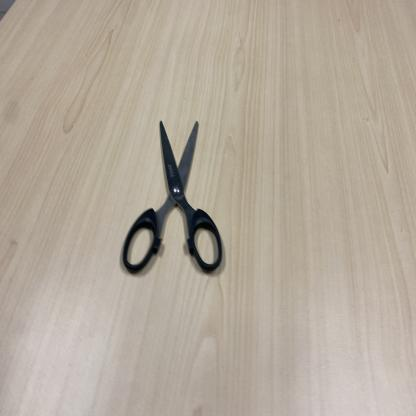scissors: (120, 122, 233, 280)
